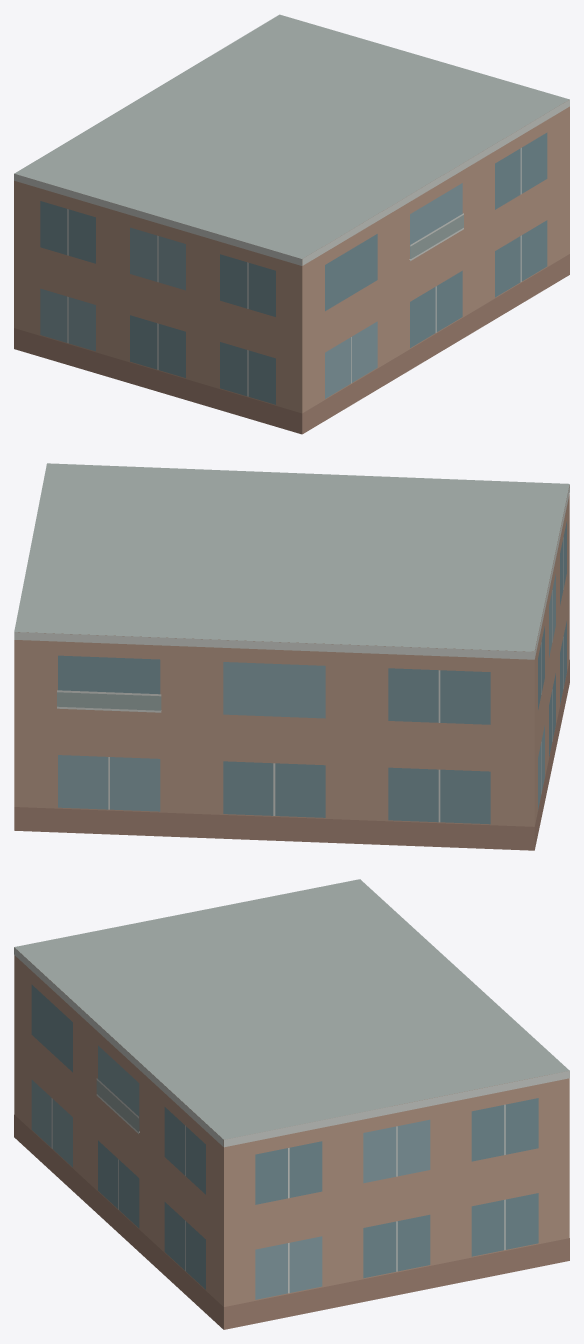
File: survey-upis-32853785.glb
The picture shows the model from 3 angles, top to bottom: view 1: azimuth 30°, elevation 25°; view 2: azimuth 150°, elevation 25°; view 3: azimuth 270°, elevation 25°; orthographic projection. The views are drawn at different scales.
Visible parts, largest first — view 1: survey-upis-32853785.tmp; view 2: survey-upis-32853785.tmp; view 3: survey-upis-32853785.tmp.
Boxes of the visible parts, <box> form: survey-upis-32853785.tmp: <box>14,14,569,434</box>; survey-upis-32853785.tmp: <box>14,463,569,850</box>; survey-upis-32853785.tmp: <box>14,879,569,1329</box>.
Bounding box in the file's own units: 17.96 × 6.1 × 16.17.
